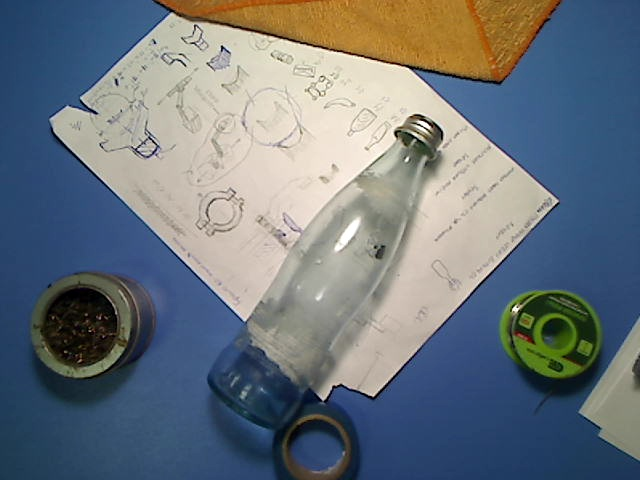bottle: (206, 113, 443, 431)
